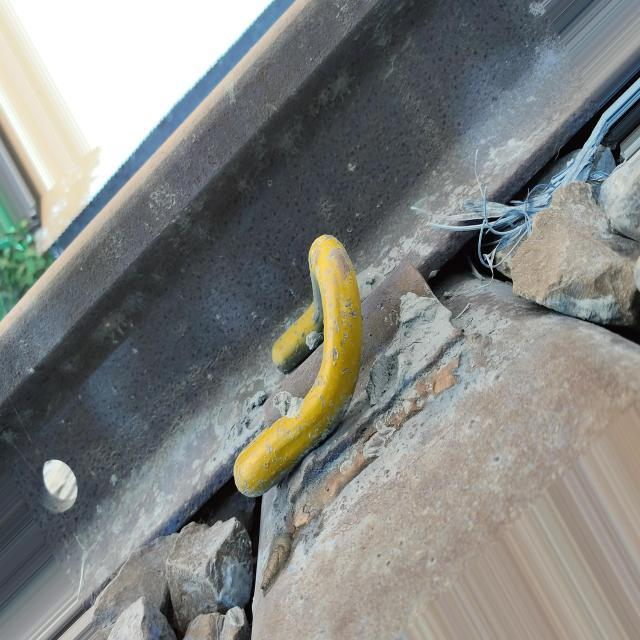Good Fasteners: (221, 193, 477, 598)
